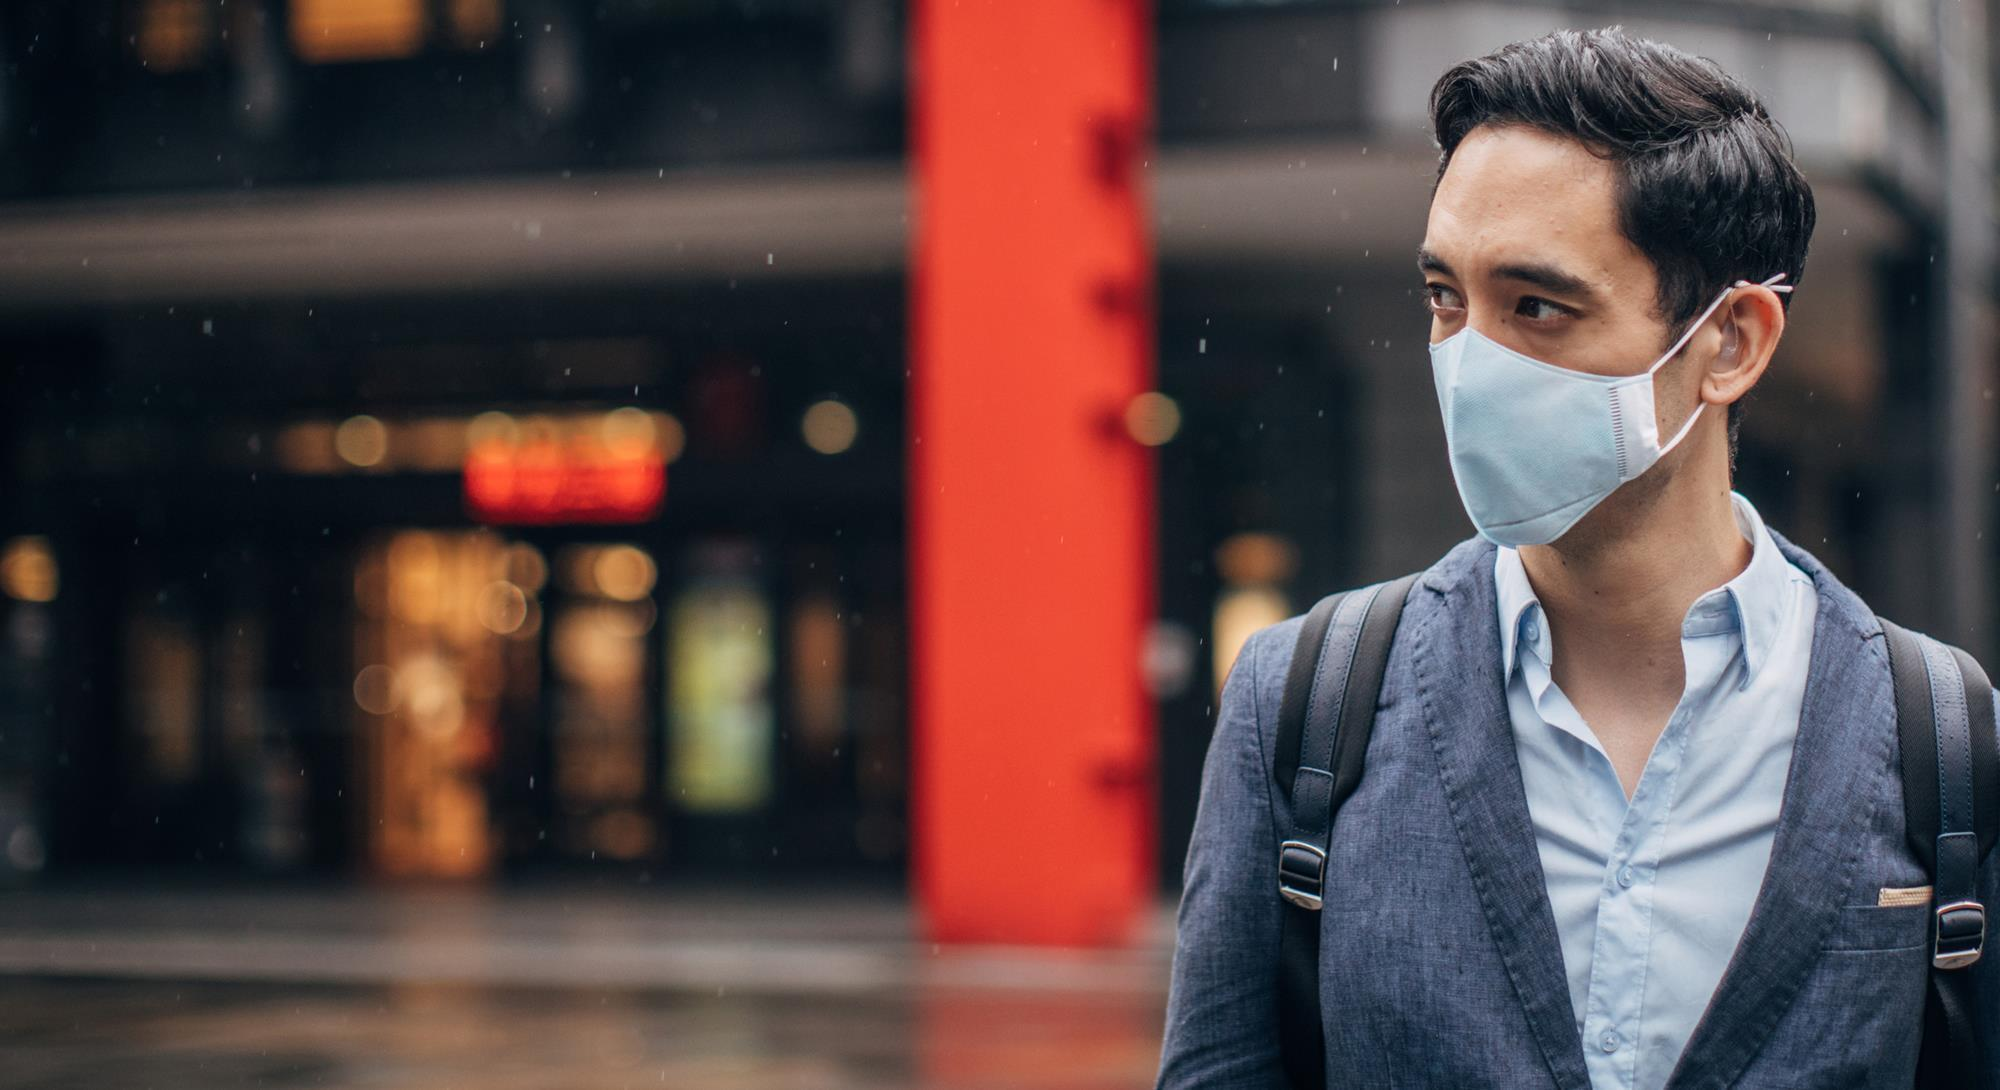with_mask: (1408, 78, 1799, 566)
